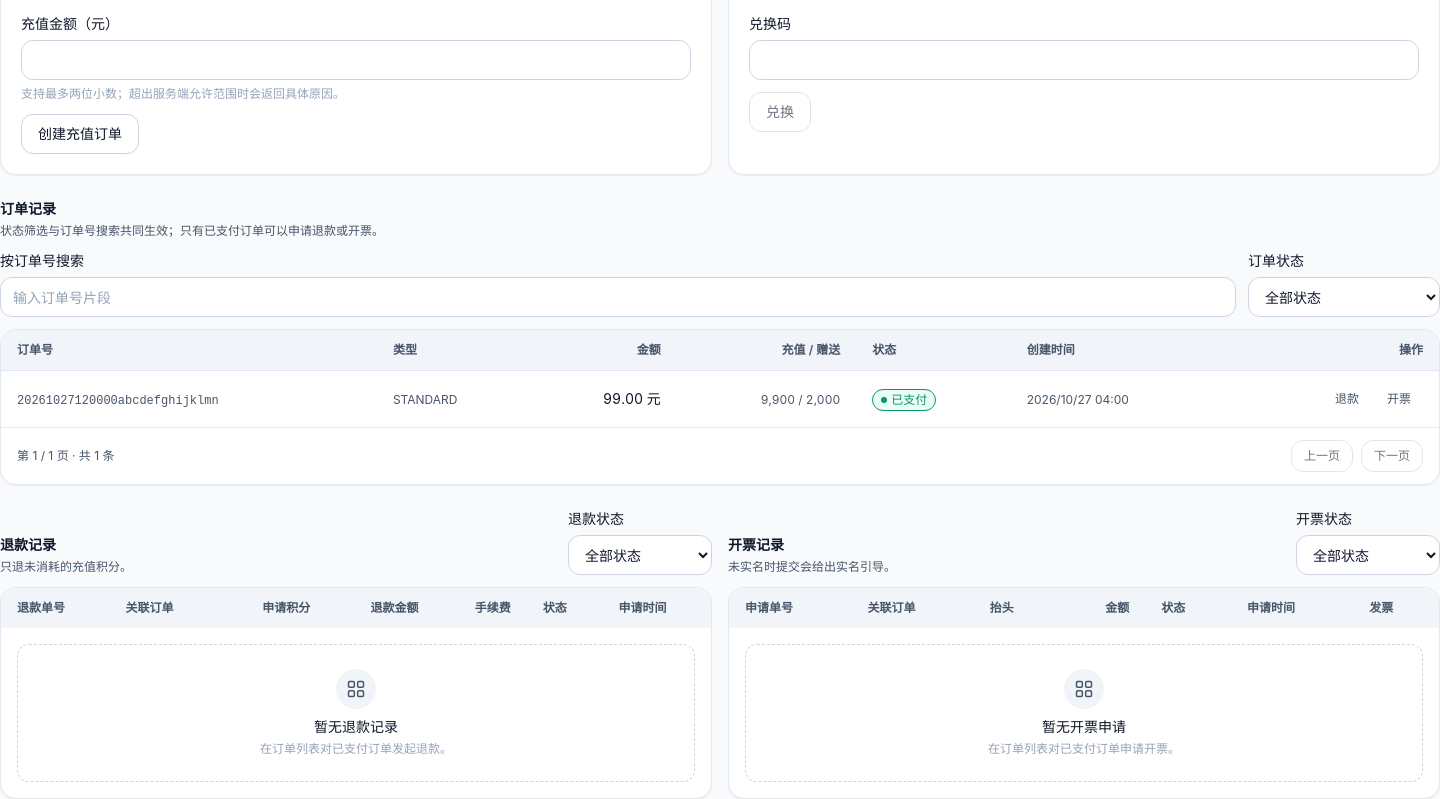
RechargePage › shows the backend resource_state_conflict reason when a refund is rejected
(page scrolled)
Expected: the text "20261027120000abcdefghijklmn" is shown, [17,394,219,408]
Click the button "退款": x=1347, y=399 [1323,383,1371,415]
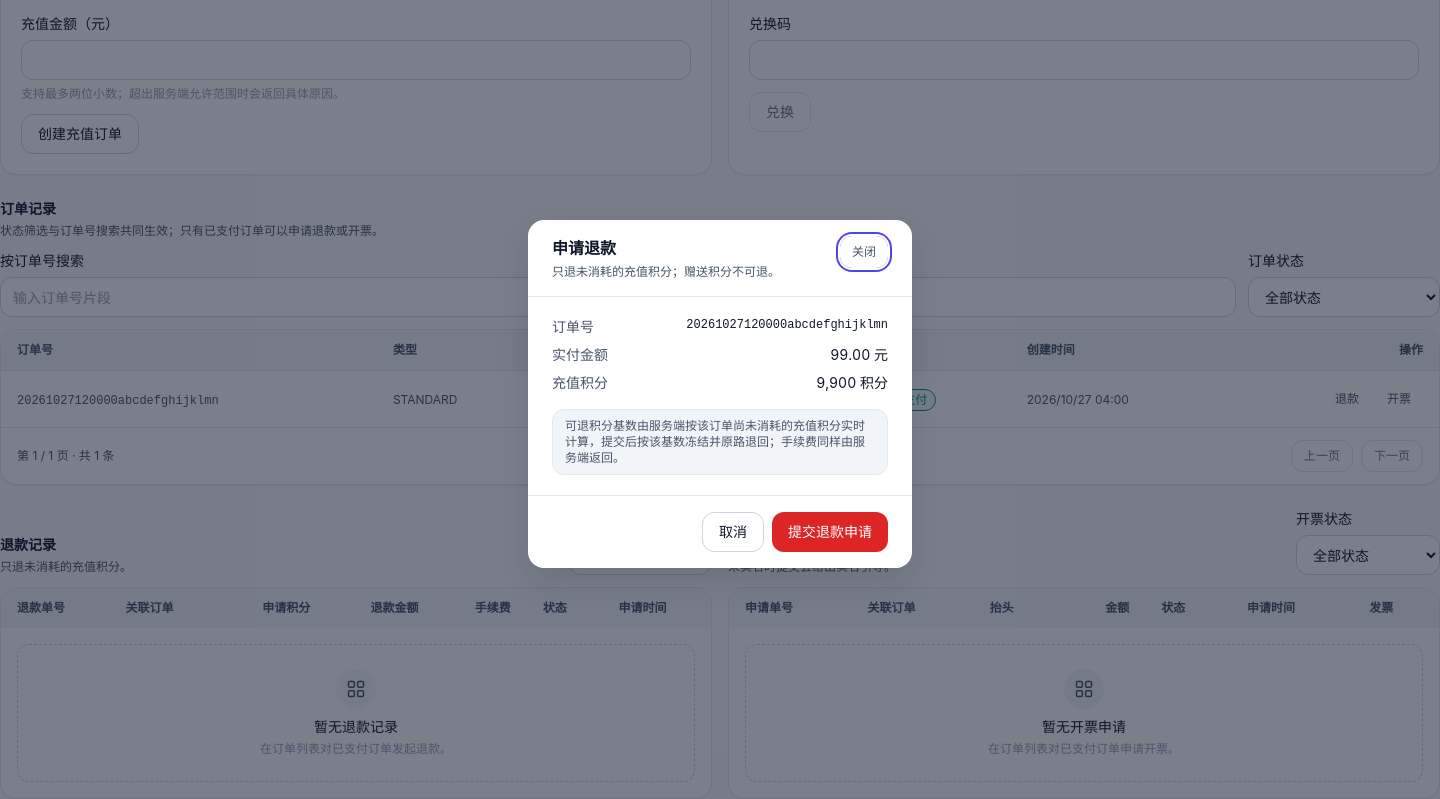
Click the button "提交退款申请": x=830, y=532 [772,512,888,552]
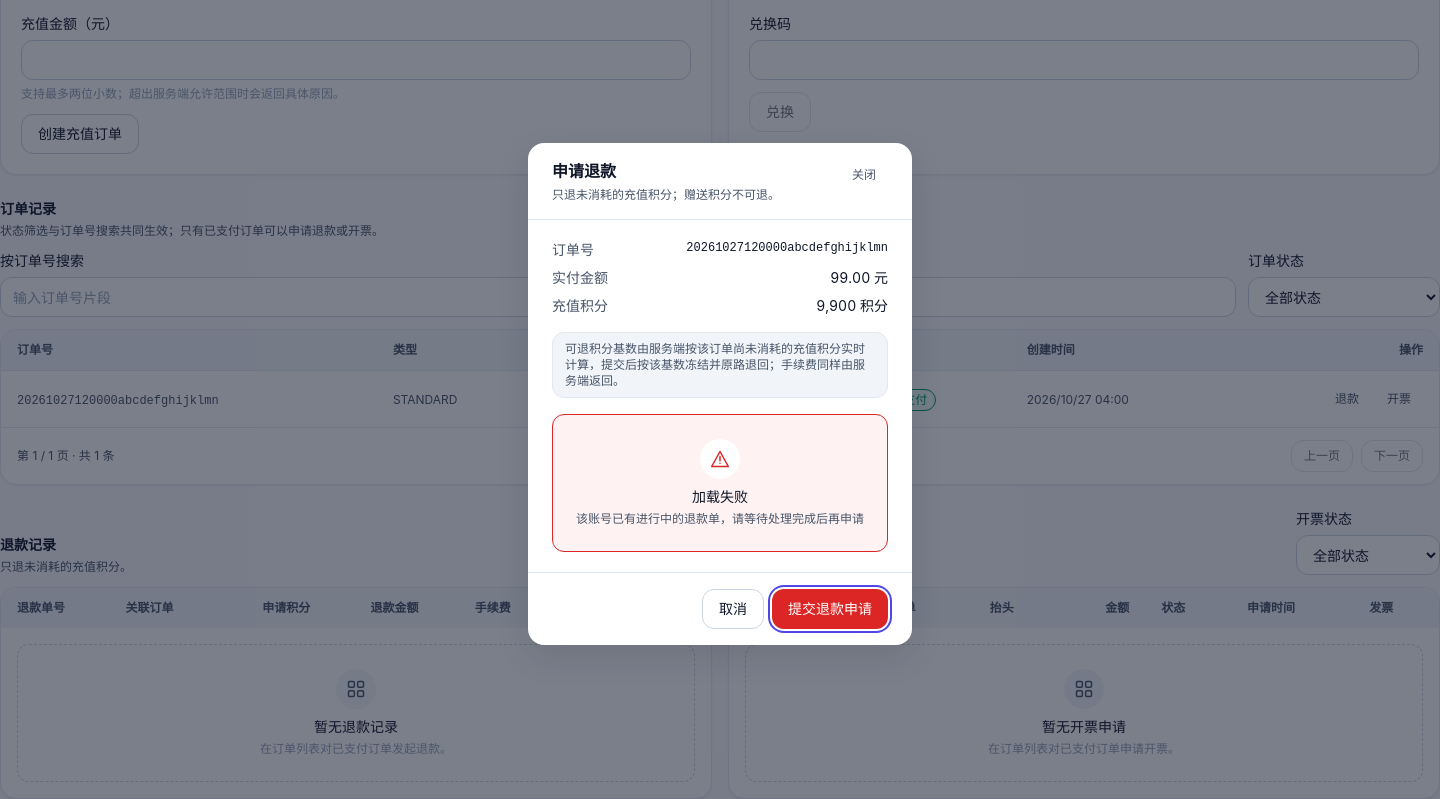
Expected: the text "该账号已有进行中的退款单，请等待处理完成后再申请" is shown, [576,511,864,527]
